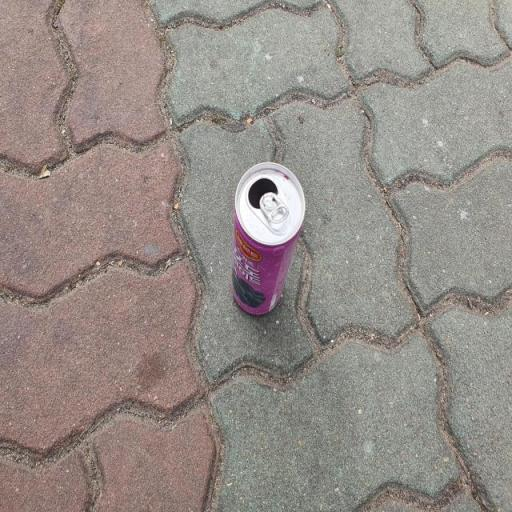metal: (216, 146, 316, 335)
